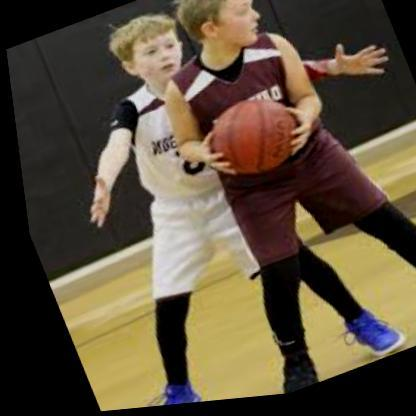basketball: (195, 90, 308, 191)
